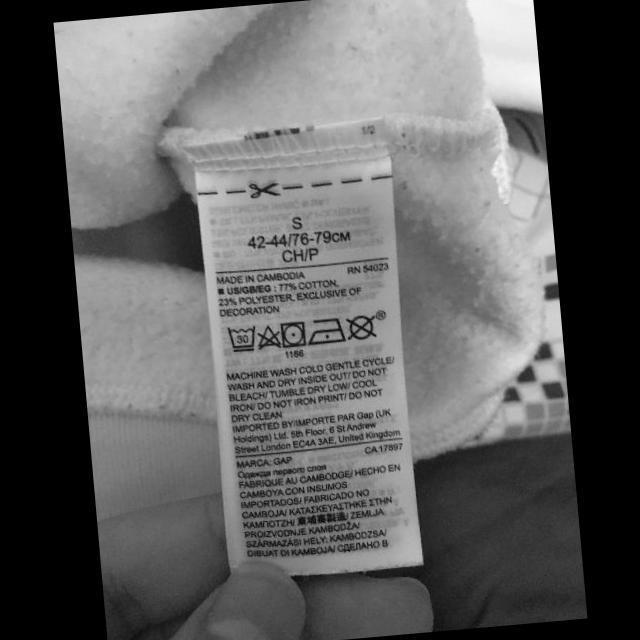30C: (225, 322, 258, 354)
DN_bleach: (254, 322, 283, 352)
DN_dry_clean: (343, 310, 376, 343)
iron_low: (306, 314, 348, 347)
tumble_dry_low: (278, 318, 308, 348)
